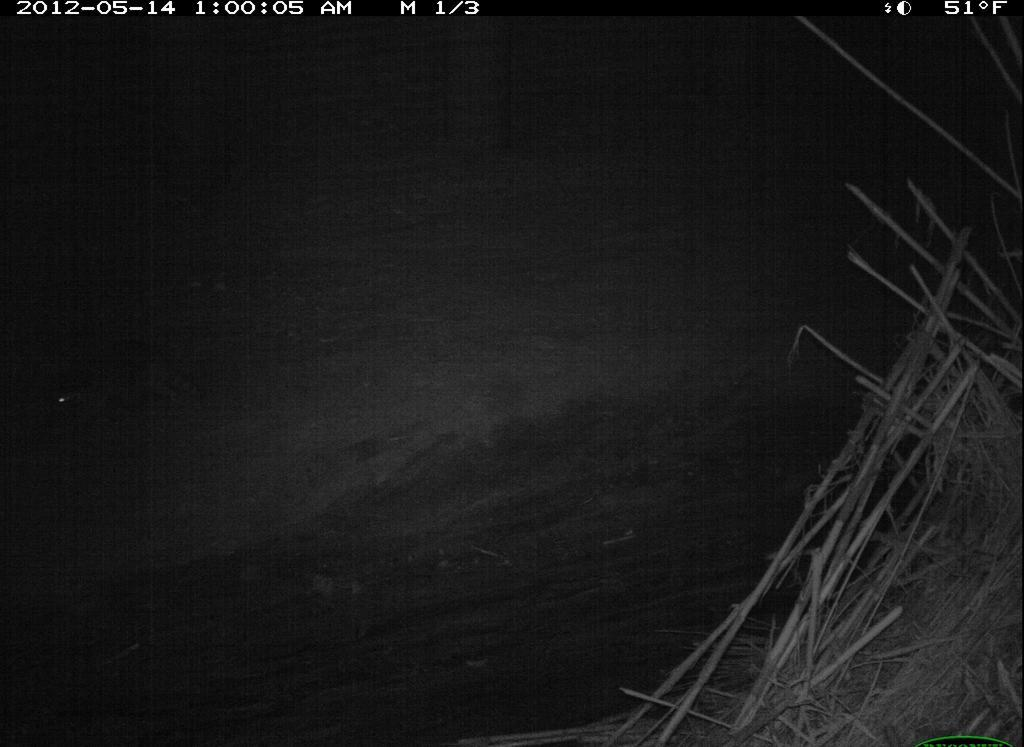raccoon: (27, 324, 213, 445)
